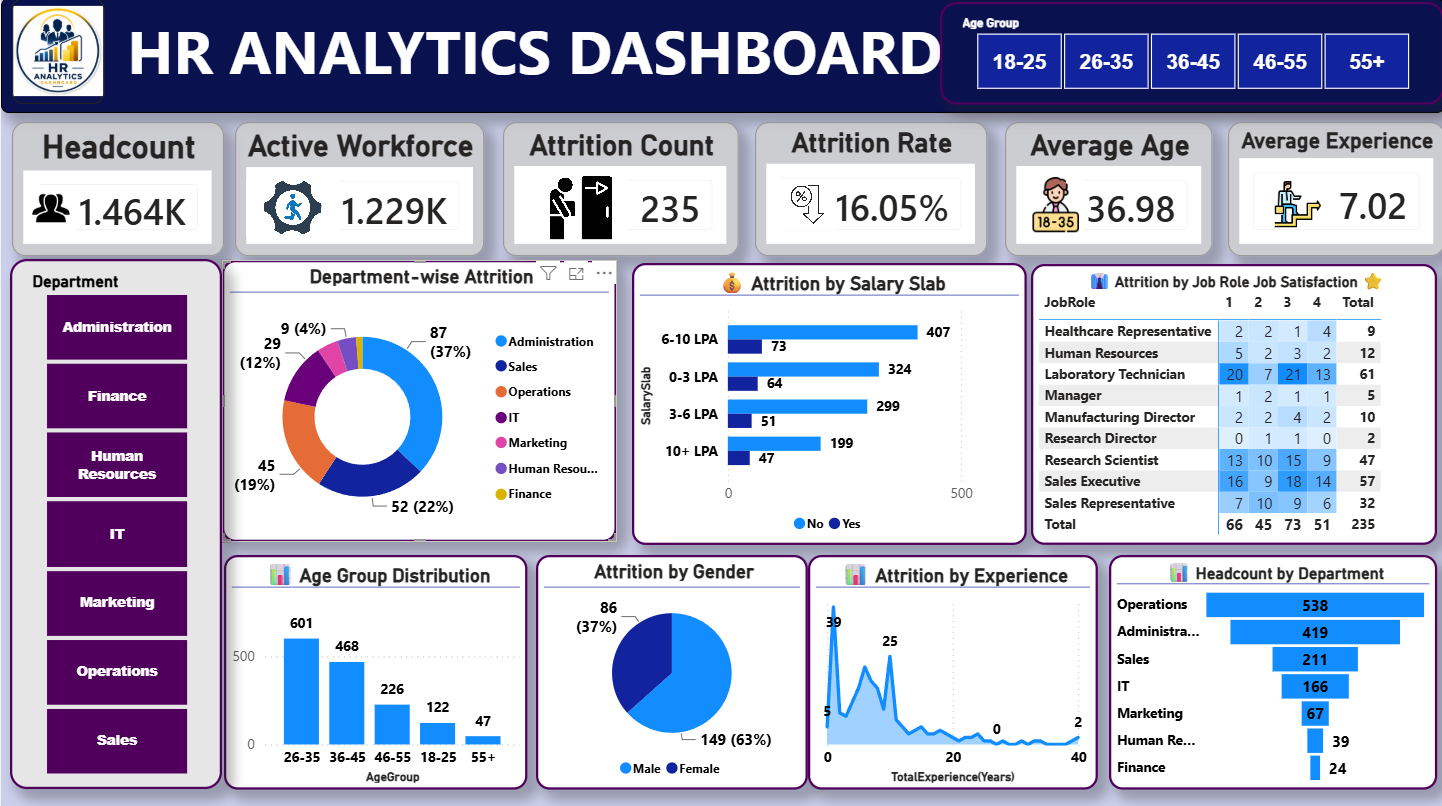

The dashboard page shown, as its layout file describes it:
{"tool":"powerbi","page":{"name":"Page 1","canvas":[1280,720],"ordinal":0},"visuals":[{"type":"textbox","box":[0,0,1280,102.1],"z":0},{"type":"image","box":[9.6,0,81.9,94.4],"z":1000},{"type":"cardVisual","title":"Headcount","fields":{"Data":["CountNonNull(HR_Analytics-4.EmpID - Copy)"]},"box":[10,110,187.8,118.9],"z":2000},{"type":"cardVisual","title":"Active Workforce","fields":{"Data":["CountNonNull(HR_Analytics-4.EmployeeCount)"]},"box":[207.8,110,221.1,118.9],"z":3000},{"type":"cardVisual","title":"Attrition Count","fields":{"Data":["Sum(HR_Analytics-4.Attrination_count)"]},"box":[445.6,110,208.9,118.9],"z":4000},{"type":"cardVisual","title":"Attrition Rate","fields":{"Data":["HR_Analytics-4.Attrition Rate %"]},"box":[668.9,110,205.6,118.9],"z":5000},{"type":"cardVisual","title":"Average Age","fields":{"Data":["Avg(HR_Analytics-4.Age)"]},"box":[890,110,184.4,118.9],"z":6000},{"type":"cardVisual","title":"Average Experience","fields":{"Data":["Avg(HR_Analytics-4.YearsatCompany)"]},"box":[1087.8,110,192.2,118.9],"z":7000},{"type":"image","box":[10.1,165.8,68.7,41.2],"z":8000},{"type":"image","box":[217.2,161.3,83.4,49.5],"z":9000},{"type":"image","box":[467.3,157.6,88.9,55.9],"z":10000},{"type":"image","box":[689,160.3,52.2,44.9],"z":11000},{"type":"image","box":[909.8,158.5,51.3,48.6],"z":12000},{"type":"image","box":[1115.1,162.2,68.7,41.2],"z":13000},{"type":"donutChart","title":"Department-wise Attrition","fields":{"Category":["HR_Analytics-4.Department"],"Y":["Sum(HR_Analytics-4.Attrination_count)"]},"box":[196,232,350,250],"z":14000},{"type":"clusteredBarChart","title":"💰 Attrition by Salary Slab","fields":{"Category":["HR_Analytics-4.SalarySlab"],"Y":["CountNonNull(HR_Analytics-4.EmpID)"],"Series":["HR_Analytics-4.Attrition"]},"box":[559.8,234.6,350,250.1],"z":15000},{"type":"pivotTable","title":"👔 Attrition by Job Role Job Satisfaction ⭐","fields":{"Rows":["HR_Analytics-4.JobRole"],"Values":["Sum(HR_Analytics-4.Attrination_count)"],"Columns":["HR_Analytics-4.JobSatisfaction"]},"box":[913.5,235.5,360.1,249.2],"z":16000},{"type":"columnChart","title":"📊 Age Group Distribution","fields":{"Category":["HR_Analytics-4.AgeGroup"],"Y":["Sum(HR_Analytics-4.EmployeeCount)"]},"box":[197.9,493.9,269.4,208],"z":17000},{"type":"pieChart","title":"Attrition by Gender","fields":{"Category":["HR_Analytics-4.Gender"],"Y":["Sum(HR_Analytics-4.Attrination_count)"]},"box":[474.6,493.9,241,208],"z":18000},{"type":"areaChart","title":"📊 Attrition by Experience","fields":{"Category":["HR_Analytics-4.TotalExperience(Years)"],"Y":["Sum(HR_Analytics-4.Attrination_count)"]},"box":[715.6,493.9,256.5,208],"z":19000},{"type":"funnel","title":"📊 Headcount by Department","fields":{"Category":["HR_Analytics-4.Department"],"Y":["CountNonNull(HR_Analytics-4.EmpID)"]},"box":[982.2,493.9,291.4,208],"z":20000},{"type":"slicer","fields":{"Values":["HR_Analytics-4.Department"]},"box":[8.2,231.8,187.8,470],"z":21000},{"type":"slicer","fields":{"Values":["HR_Analytics-4.AgeGroup"]},"box":[832.9,3.7,447.1,90.7],"z":22000}]}

Visuals, with their boxes in screenshot pixels (x1, y1, x2, y2), scaled from the page's 1280x720 canvas onto the 1442x806 screenshot:
textbox: l=0, t=0, r=1441, b=114
image: l=11, t=0, r=103, b=106
"Headcount" cardVisual: l=11, t=123, r=223, b=256
"Active Workforce" cardVisual: l=234, t=123, r=483, b=256
"Attrition Count" cardVisual: l=502, t=123, r=737, b=256
"Attrition Rate" cardVisual: l=754, t=123, r=985, b=256
"Average Age" cardVisual: l=1003, t=123, r=1210, b=256
"Average Experience" cardVisual: l=1225, t=123, r=1441, b=256
image: l=11, t=186, r=89, b=232
image: l=245, t=181, r=339, b=236
image: l=526, t=176, r=627, b=239
image: l=776, t=179, r=835, b=230
image: l=1025, t=177, r=1083, b=232
image: l=1256, t=182, r=1334, b=228
"Department-wise Attrition" donutChart: l=221, t=260, r=615, b=540
"💰 Attrition by Salary Slab" clusteredBarChart: l=631, t=263, r=1025, b=543
"👔 Attrition by Job Role Job Satisfaction ⭐" pivotTable: l=1029, t=264, r=1435, b=543
"📊 Age Group Distribution" columnChart: l=223, t=553, r=526, b=786
"Attrition by Gender" pieChart: l=535, t=553, r=806, b=786
"📊 Attrition by Experience" areaChart: l=806, t=553, r=1095, b=786
"📊 Headcount by Department" funnel: l=1107, t=553, r=1435, b=786
slicer - HR_Analytics-4.Department: l=9, t=259, r=221, b=786
slicer - HR_Analytics-4.AgeGroup: l=938, t=4, r=1441, b=106
